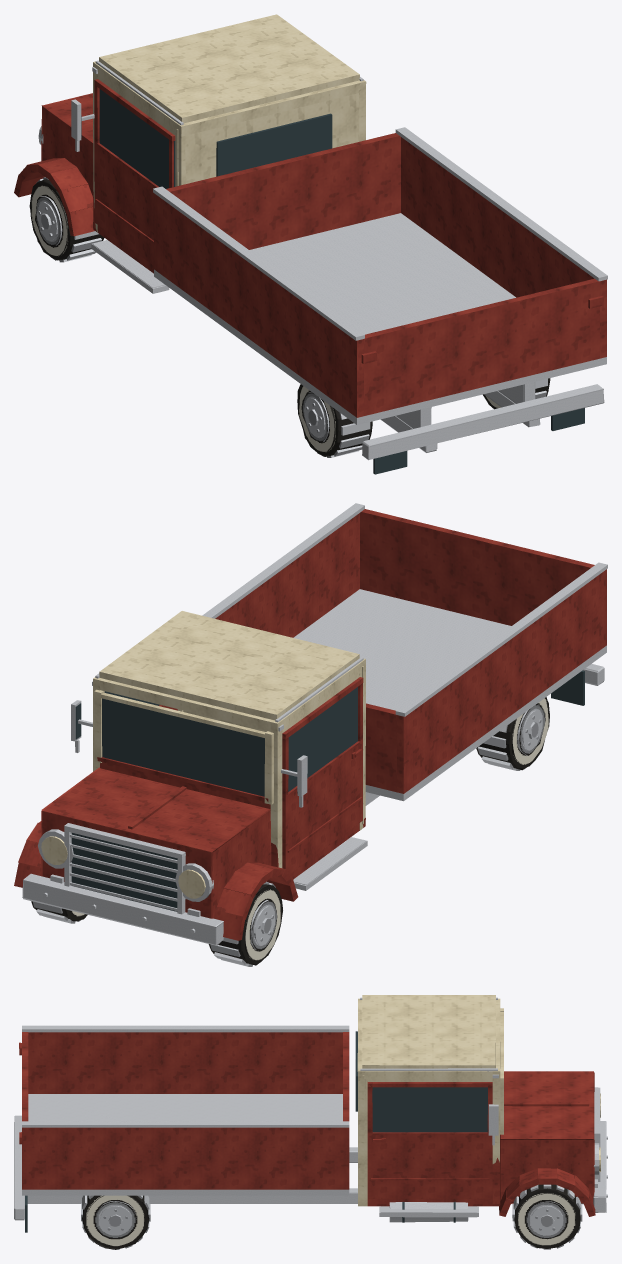
Rendered from homestead_classic.glb.
3 renders of one model, top to bottom at view 1: azimuth 30°, elevation 25°; view 2: azimuth 150°, elevation 25°; view 3: azimuth 270°, elevation 25°, orthographic. The views are drawn at different scales.
Parts seen in each view (by area): view 1: HomesteadClassic, Tailgate, Door_L, Glass_L, Wheel_L1, Wheel_L2; view 2: HomesteadClassic, Tailgate, Door_L, Glass_L, Wheel_L1, Wheel_L2, Wheel_R1; view 3: HomesteadClassic, Door_R, Glass_R, Wheel_R1, Wheel_R2, Tailgate.
Boxes of the visible parts, box(x1,y1,x2,y2) form: HomesteadClassic: box(14, 14, 607, 474); Tailgate: box(364, 278, 599, 415); Door_L: box(94, 79, 175, 265); Glass_L: box(99, 89, 175, 188); Wheel_L1: box(29, 177, 104, 262); Wheel_L2: box(297, 384, 372, 457); HomesteadClassic: box(14, 503, 607, 945); Tailgate: box(360, 509, 594, 625); Door_L: box(282, 677, 363, 873); Glass_L: box(288, 687, 357, 791); Wheel_L1: box(208, 881, 282, 966); Wheel_L2: box(476, 697, 549, 770); Wheel_R1: box(31, 901, 87, 923); HomesteadClassic: box(14, 995, 607, 1232); Door_R: box(367, 1082, 492, 1198); Glass_R: box(372, 1087, 487, 1132); Wheel_R1: box(512, 1184, 582, 1249); Wheel_R2: box(81, 1195, 150, 1249); Tailgate: box(22, 1032, 28, 1121).
Bounding box in the file's own units: 3.05 × 2.57 × 7.72.
5 materials, 4 textured.
